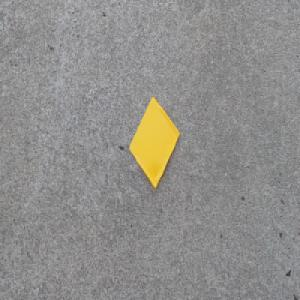PlasticPart: (128, 95, 180, 190)
